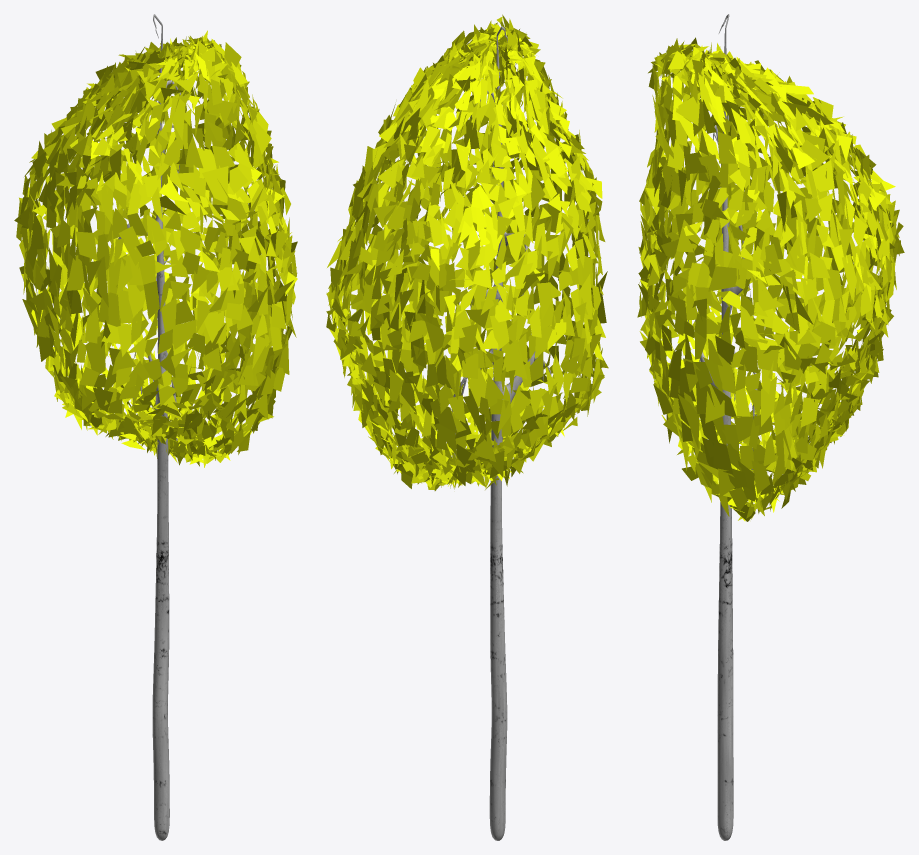
The model's file is Leaves62.001.fbx.
3 renders of one model, left to right at view 1: azimuth 30°, elevation 25°; view 2: azimuth 150°, elevation 25°; view 3: azimuth 270°, elevation 25°, orthographic.
Visible parts, largest first — view 1: Leaves62.001; view 2: Leaves62.001; view 3: Leaves62.001.
Boxes of the visible parts, <box> form: Leaves62.001: <box>14,14,297,840</box>; Leaves62.001: <box>326,14,608,840</box>; Leaves62.001: <box>637,14,904,840</box>.
Size of the model in its own units: 795 by 2612 by 768.
Materials: 2 (1 with a texture image).
